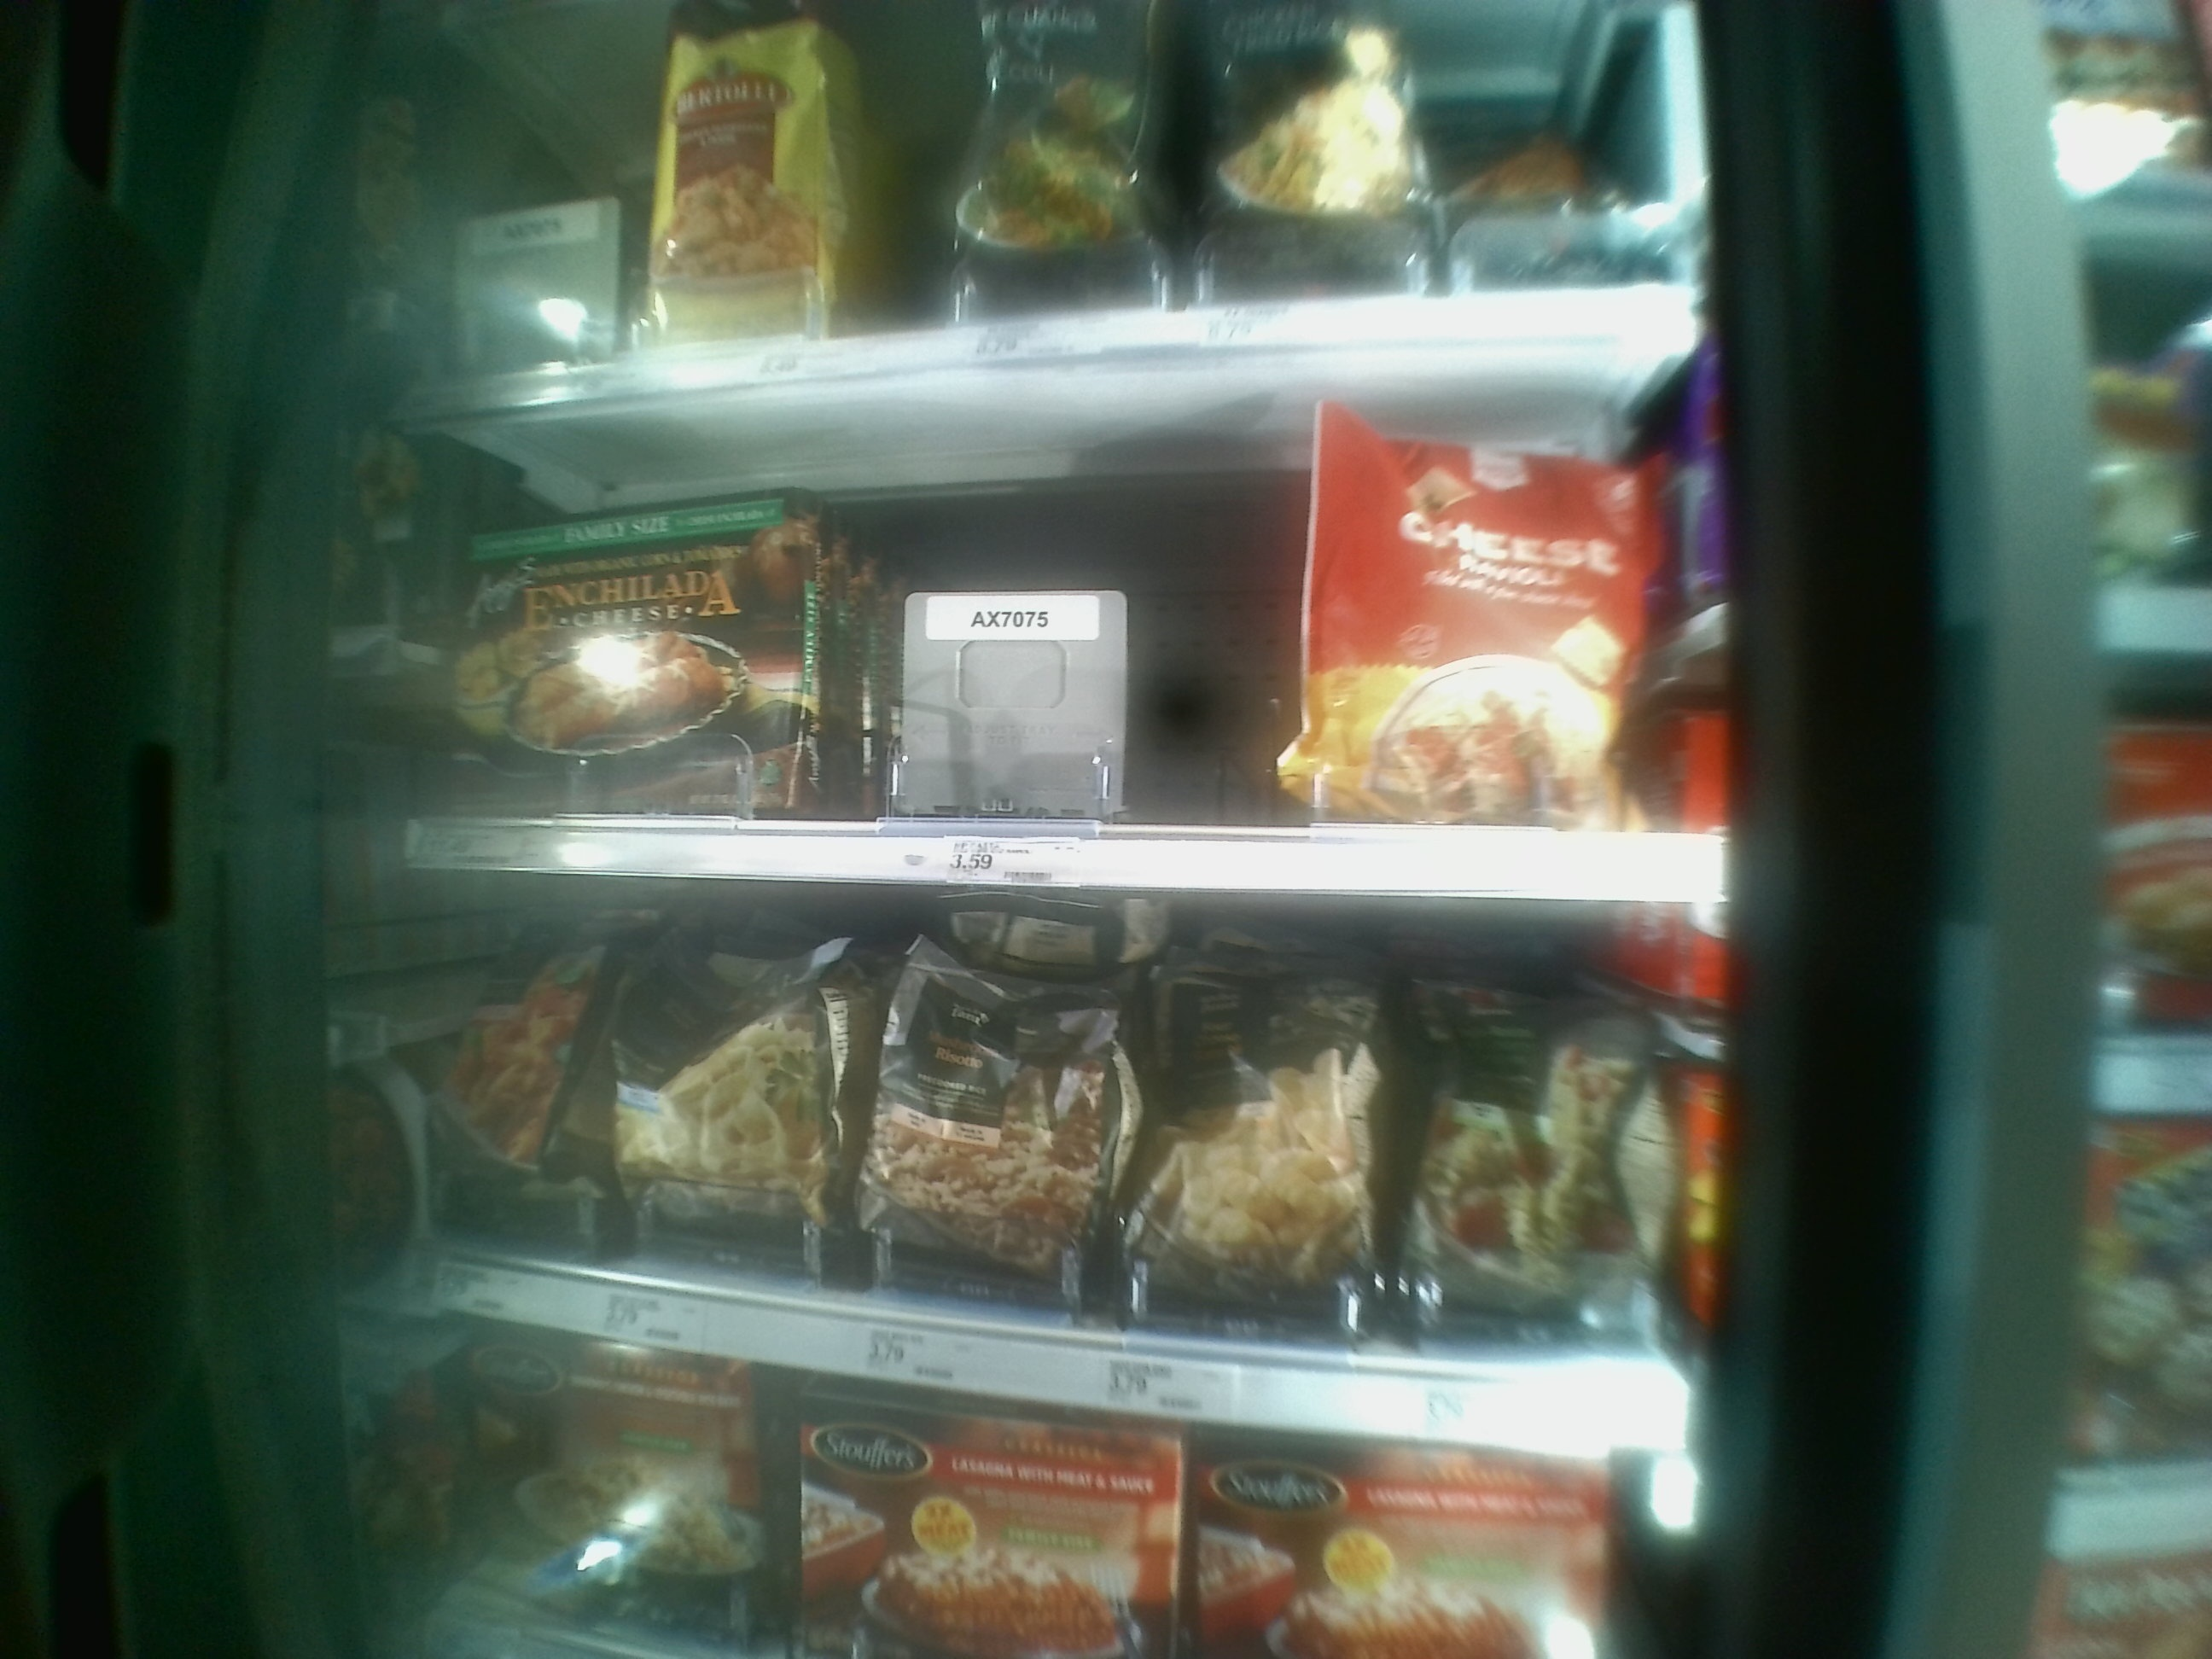shelf: (399, 873, 1712, 1457), (408, 392, 1719, 878)
